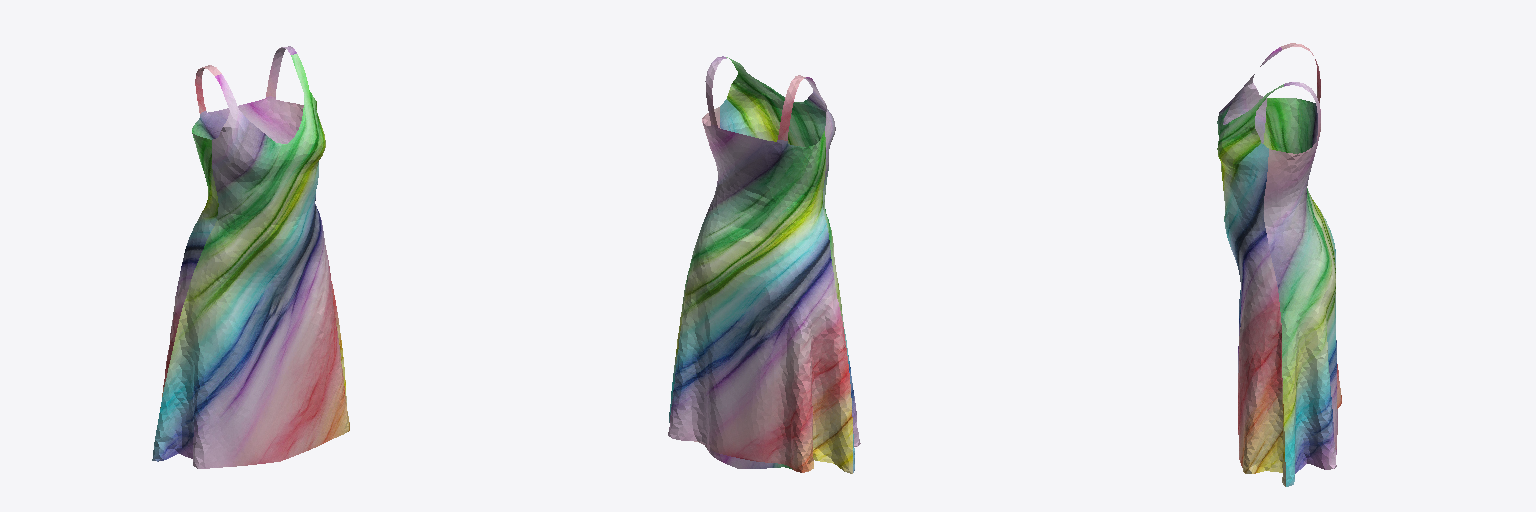
3 renders of one model, left to right at view 1: azimuth 30°, elevation 25°; view 2: azimuth 150°, elevation 25°; view 3: azimuth 270°, elevation 25°, orthographic.
Parts seen in each view (by area): view 1: FullDress_Cloth_Shape.004; view 2: FullDress_Cloth_Shape.004; view 3: FullDress_Cloth_Shape.004.
Part boxes in pixels (x1,y1,x2,y2): FullDress_Cloth_Shape.004: (152,46,349,468); FullDress_Cloth_Shape.004: (668,56,860,473); FullDress_Cloth_Shape.004: (1217,43,1341,486).
Size of the model in its own units: 2.5 by 4.88 by 1.44.
Materials: 1 (1 with a texture image).